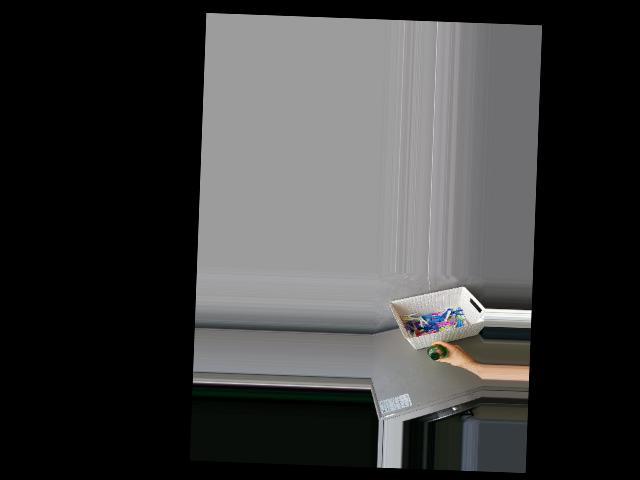beer: (426, 344, 447, 361)
